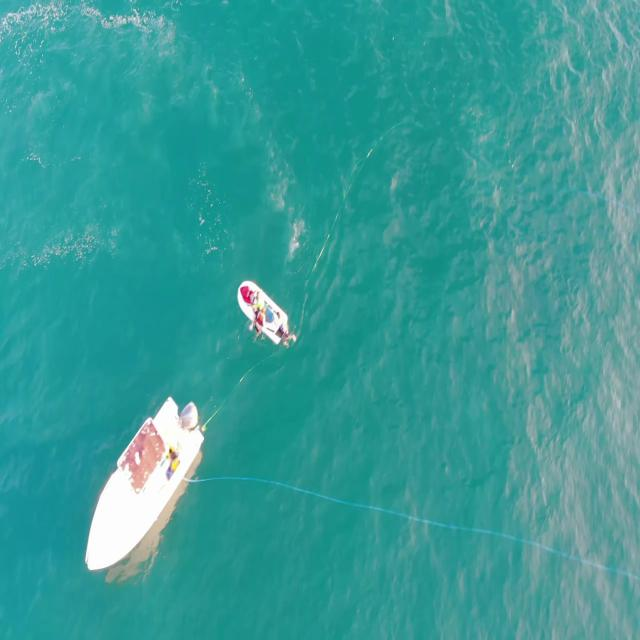boat: (82, 392, 206, 578), (234, 278, 290, 348)
